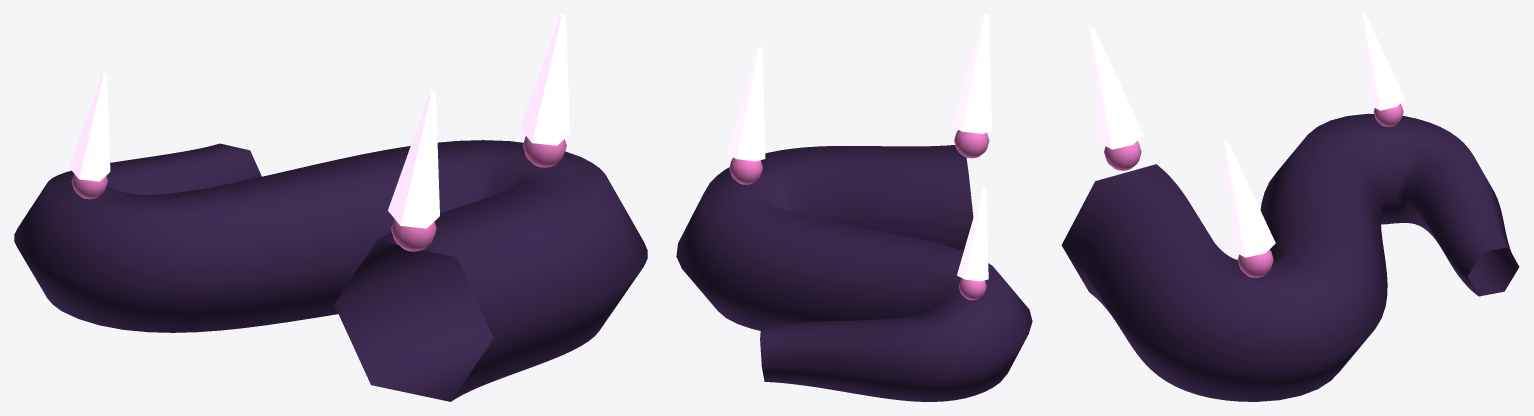
File: SM_Keeper_Apep_Body_F16.fbx
The picture shows the model from 3 angles, left to right: view 1: azimuth 30°, elevation 25°; view 2: azimuth 150°, elevation 25°; view 3: azimuth 270°, elevation 25°; orthographic projection. The views are drawn at different scales.
Parts seen in each view (by area): view 1: SM_Keeper_Apep_Body_F16; view 2: SM_Keeper_Apep_Body_F16; view 3: SM_Keeper_Apep_Body_F16.
Boxes of the visible parts, x1,y1,x2,y2 form: SM_Keeper_Apep_Body_F16: (14, 14, 647, 401); SM_Keeper_Apep_Body_F16: (676, 14, 1032, 401); SM_Keeper_Apep_Body_F16: (1061, 14, 1519, 401).
Size of the model in its own units: 6.88 by 4.37 by 6.55.
